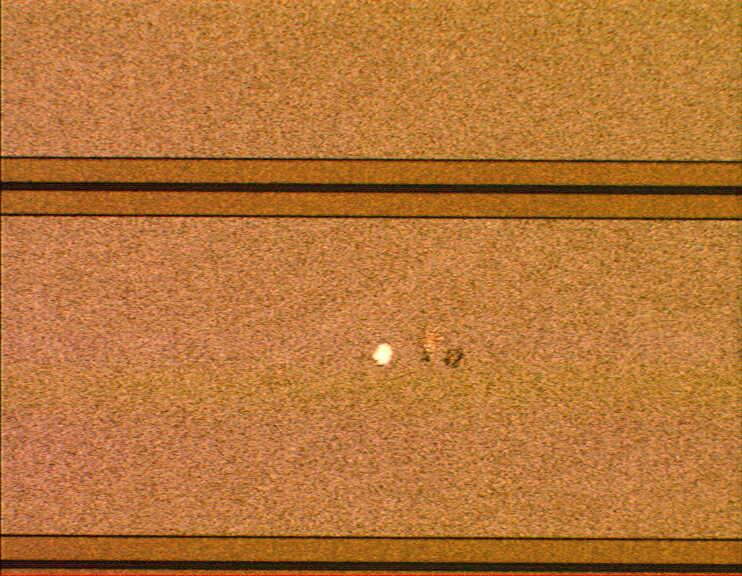SCRATCH: (341, 325, 513, 385)
